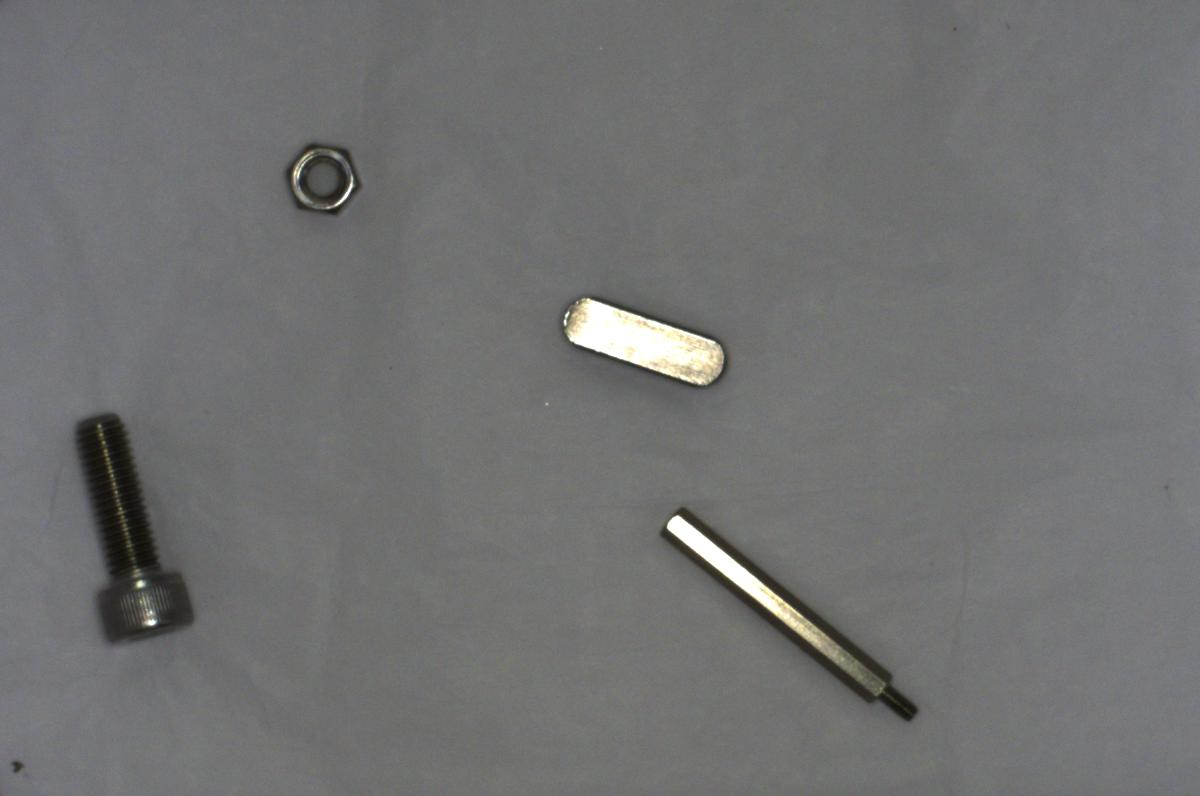Hexagon nut: (278, 138, 371, 219)
Hexagon screw: (70, 403, 199, 652)
Hexagonal steel column: (654, 507, 926, 727)
Keybar: (552, 287, 732, 396)
